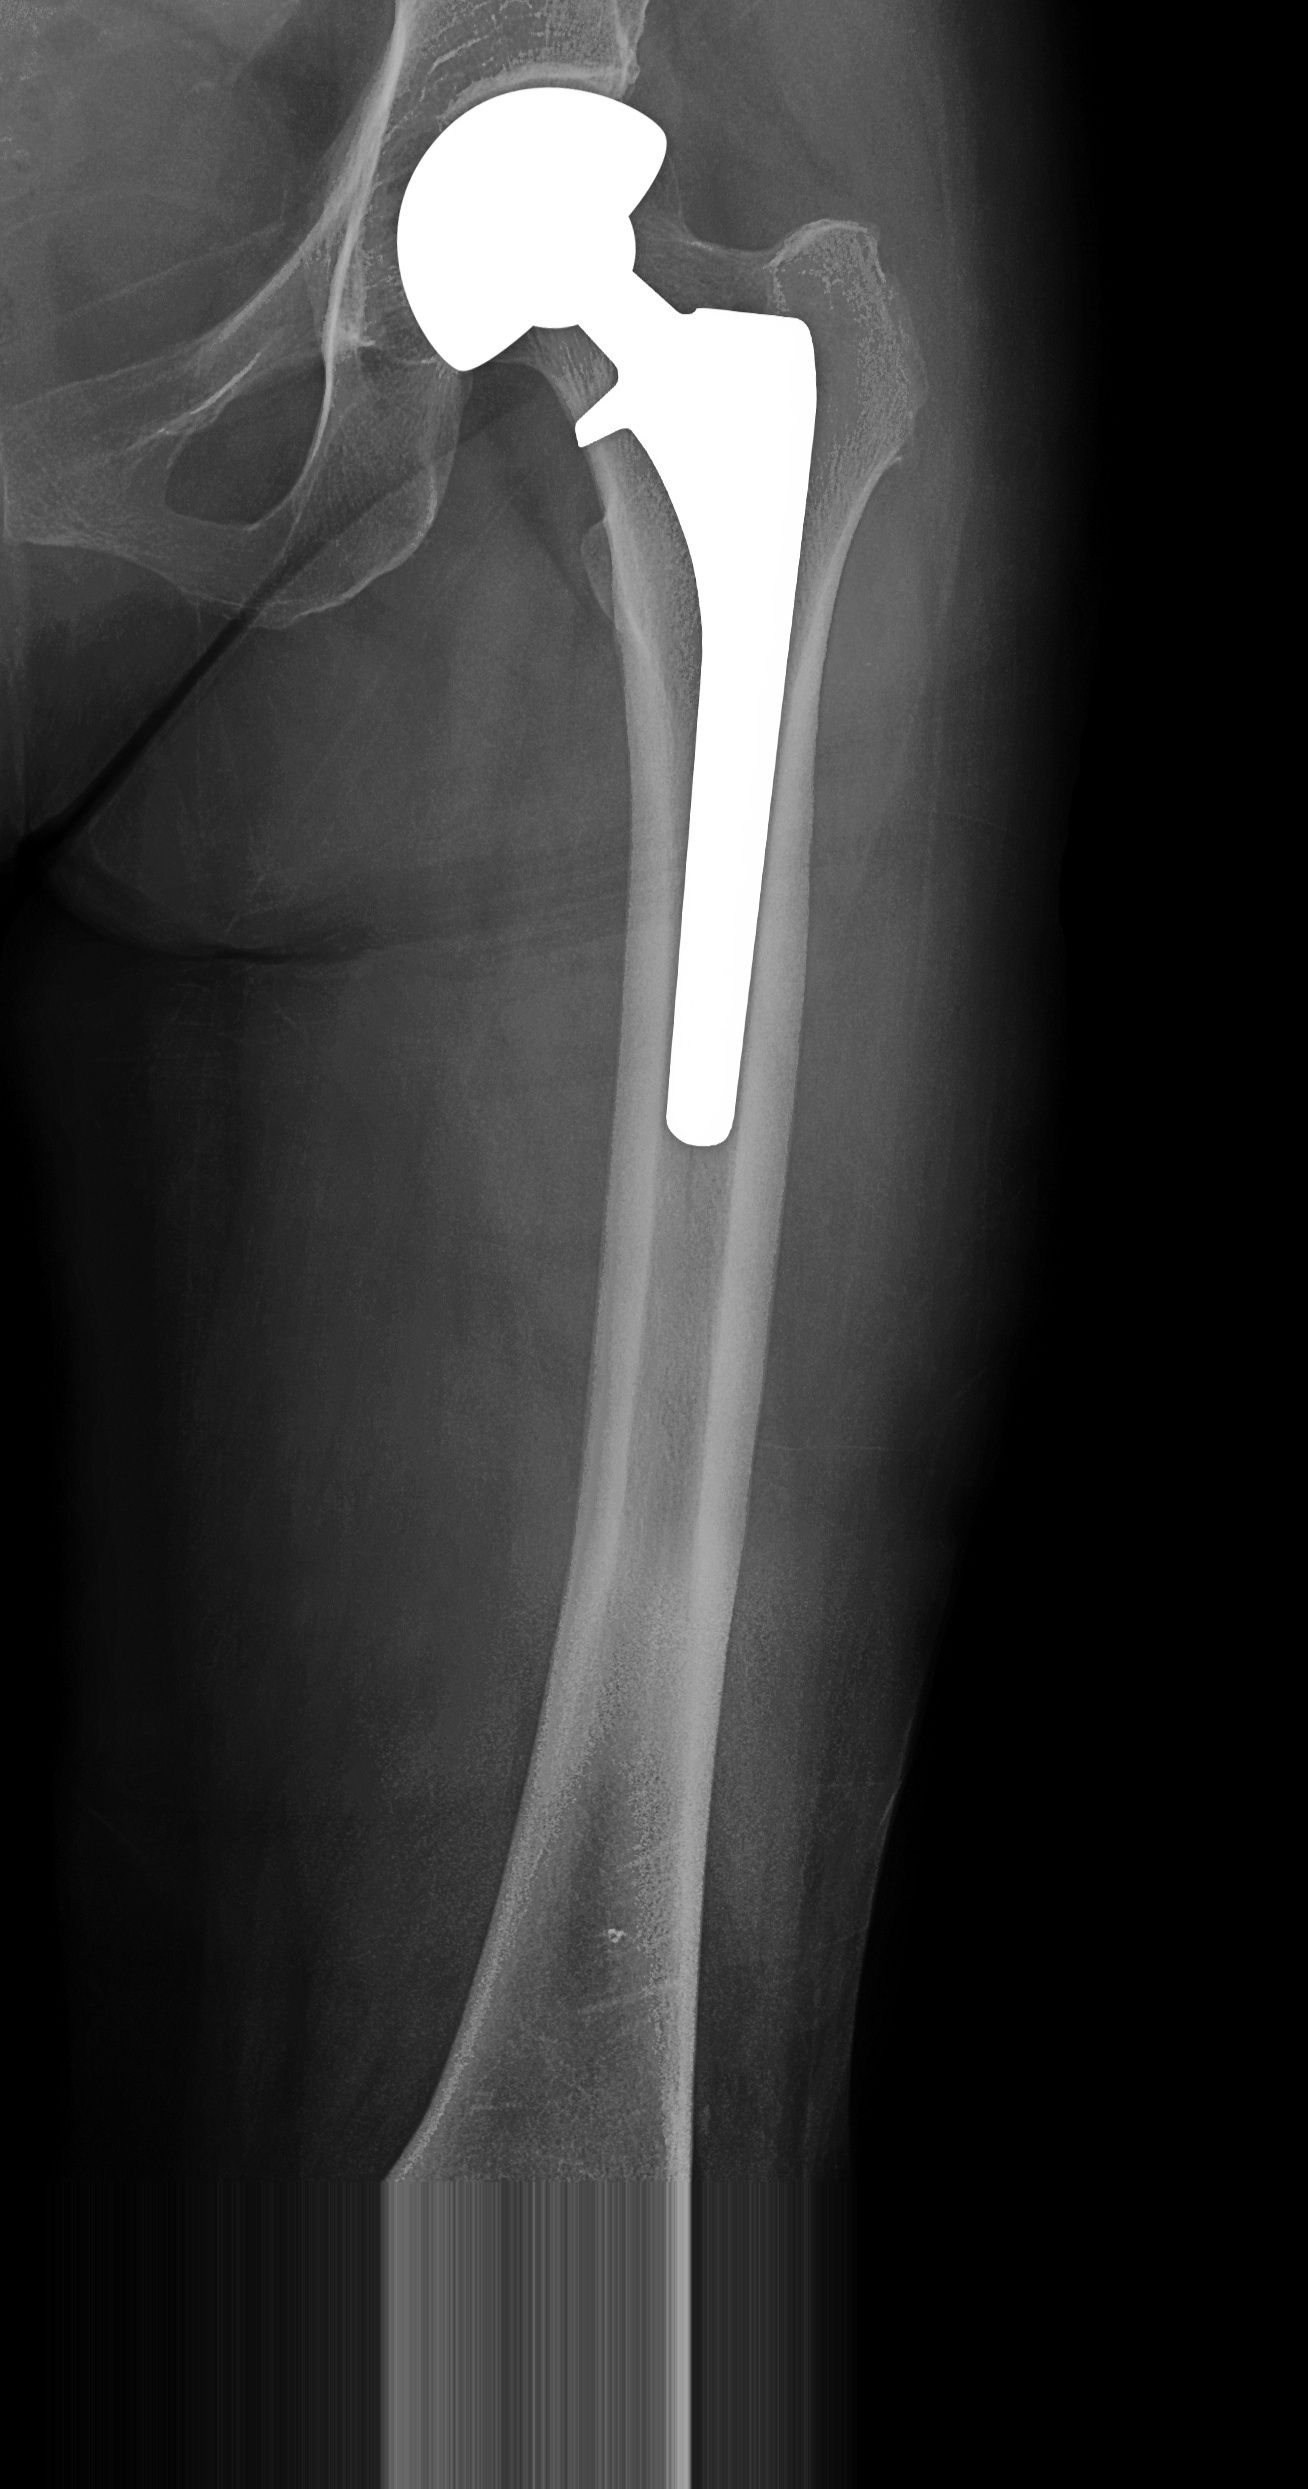Hip - APR - Zimmer: (382, 79, 833, 1185)
